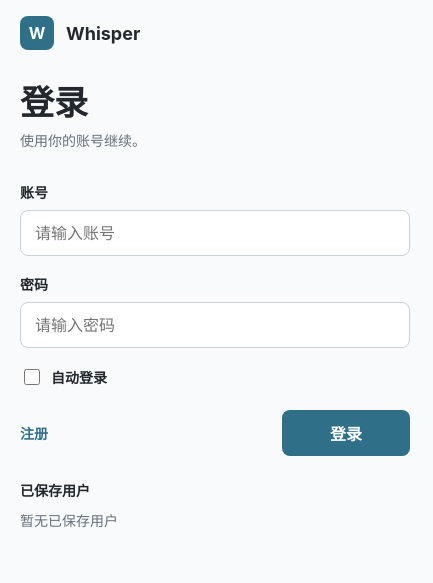
Test case: LoginPanel › validates credentials before requesting password login
This screenshot has width=433, height=583.
Type "alice" into the field labelled "账号" at coordinates (215, 233), box 20,210 -> 410,256
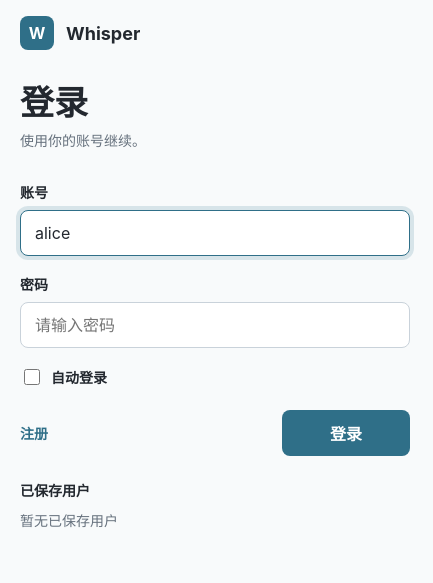
Type "secret" into the password field labelled "密码" at coordinates (215, 325), box 20,302 -> 410,348
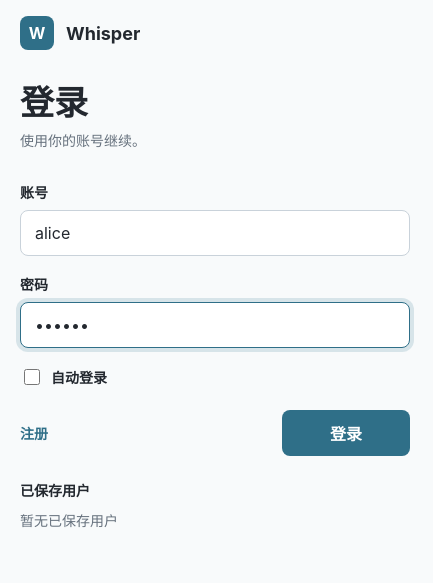
Click the button "登录" at coordinates (346, 433), box 282,410 -> 410,456
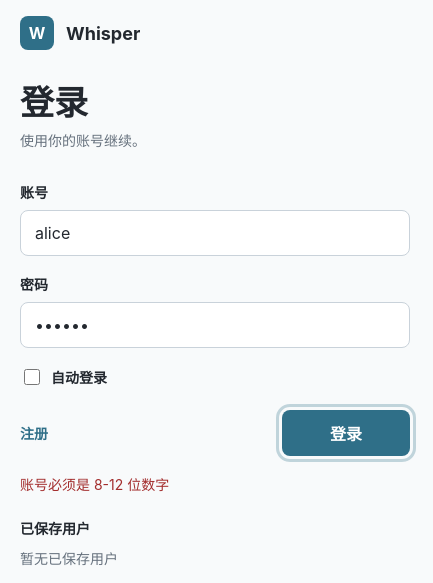
Now the text "账号必须是 8-12 位数字" is shown, box 20,476 -> 169,493
